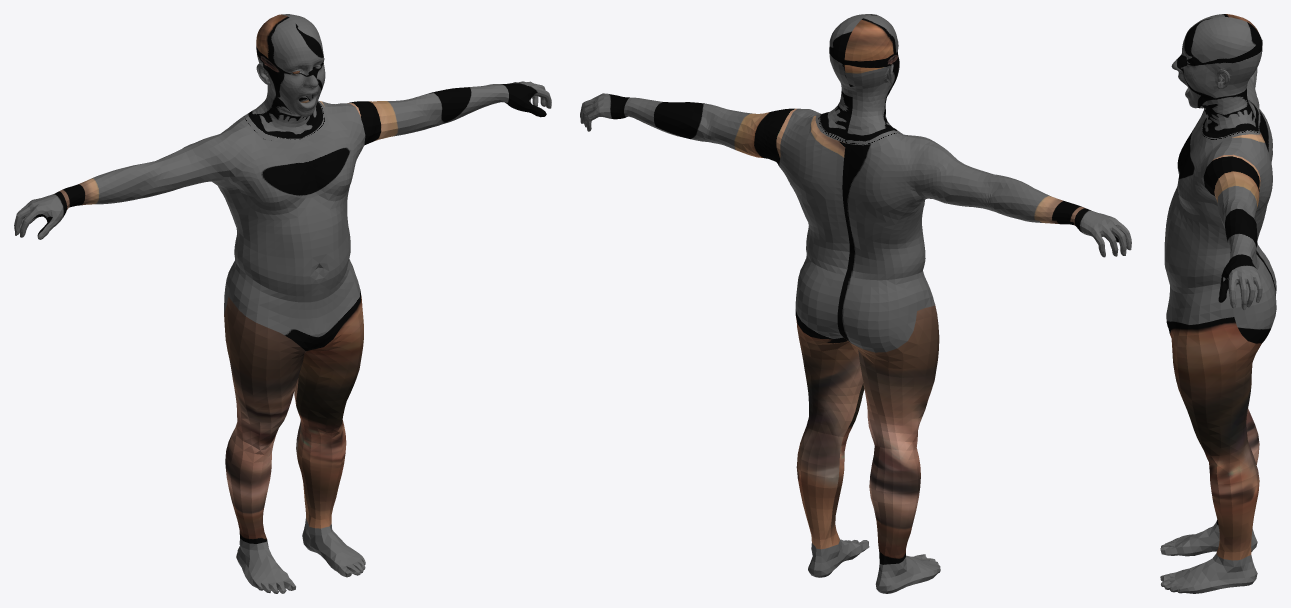
The model's file is exp_7.obj.
3 views of the same model, side by side, from view 1: azimuth 30°, elevation 25°; view 2: azimuth 150°, elevation 25°; view 3: azimuth 270°, elevation 25° (orthographic). The views are drawn at different scales.
Bounding box in the file's own units: 1.58 × 1.55 × 0.2953.
